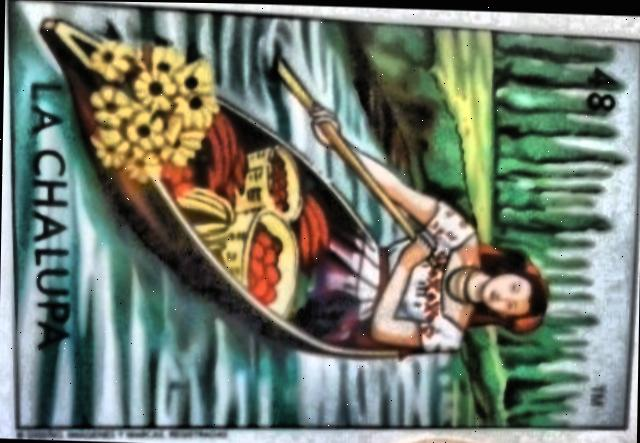La Chalupa: (8, 0, 640, 428)
